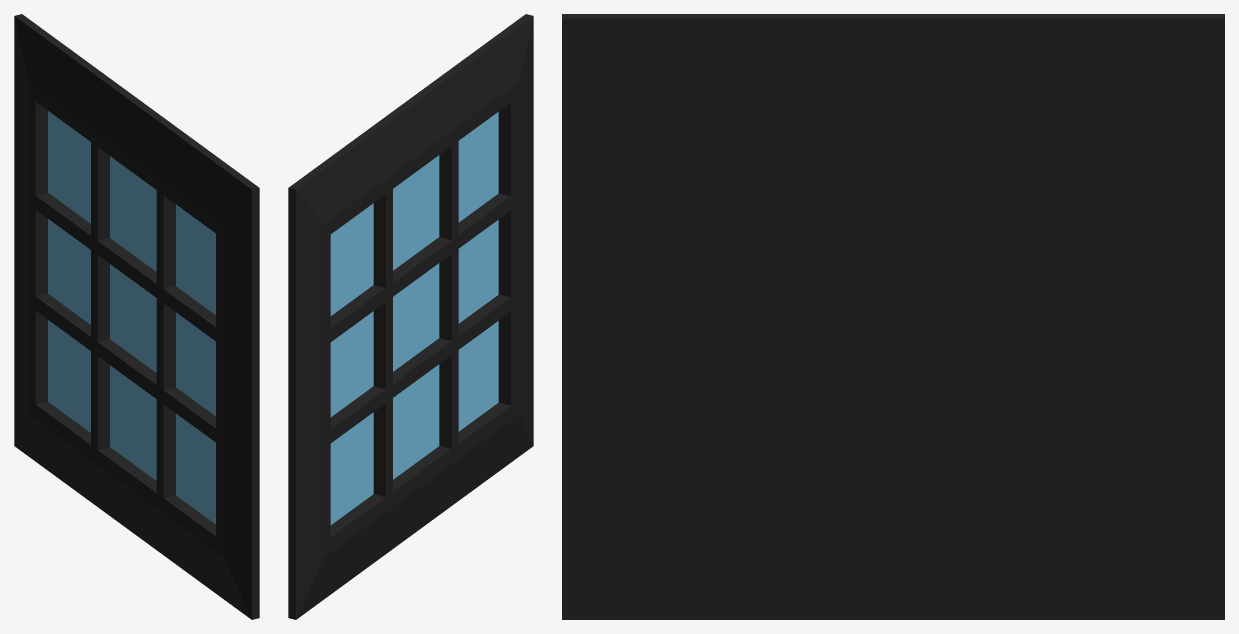
File: Slum_WindowTicTacToe.fbx
3 renders of one model, left to right at view 1: azimuth 30°, elevation 25°; view 2: azimuth 150°, elevation 25°; view 3: azimuth 270°, elevation 25°, orthographic. The views are drawn at different scales.
Parts seen in each view (by area): view 1: Box003; view 2: Box003; view 3: Box003.
Part boxes in pixels (left/top/right/bottom): Box003: left=14, top=14, right=259, bottom=619; Box003: left=288, top=14, right=533, bottom=619; Box003: left=562, top=14, right=1224, bottom=619.
Size of the model in its own units: 0.0817 by 2.34 by 2.34.
